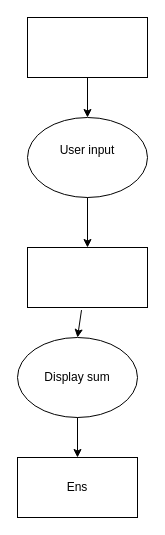
This 165x535 diagram has some shape labels left out. Here are the shapes that lost their labels. From the top down, the box of each, then its label:
(26, 16, 148, 78): Start
(26, 246, 148, 308): Add
